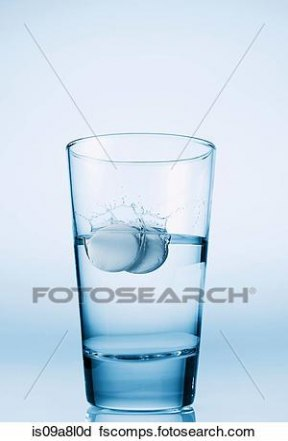glass of water: (76, 141, 201, 383)
